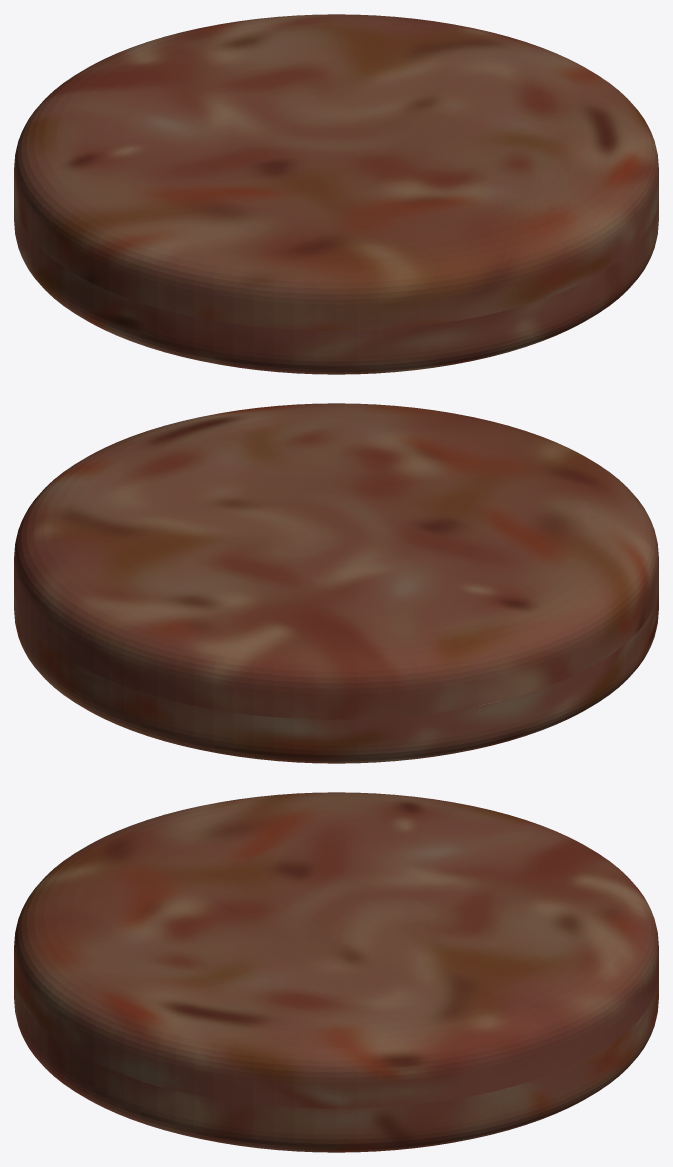
The model's file is patty.obj.
3 renders of one model, top to bottom at view 1: azimuth 30°, elevation 25°; view 2: azimuth 150°, elevation 25°; view 3: azimuth 270°, elevation 25°, orthographic.
Parts seen in each view (by area): view 1: Cylinder; view 2: Cylinder; view 3: Cylinder.
Boxes of the visible parts, x1,y1,x2,y2 form: Cylinder: [14, 14, 658, 374]; Cylinder: [14, 403, 658, 763]; Cylinder: [14, 792, 658, 1152].
Bounding box in the file's own units: 1.76 × 0.3743 × 1.76.
Materials: 1 (1 with a texture image).
